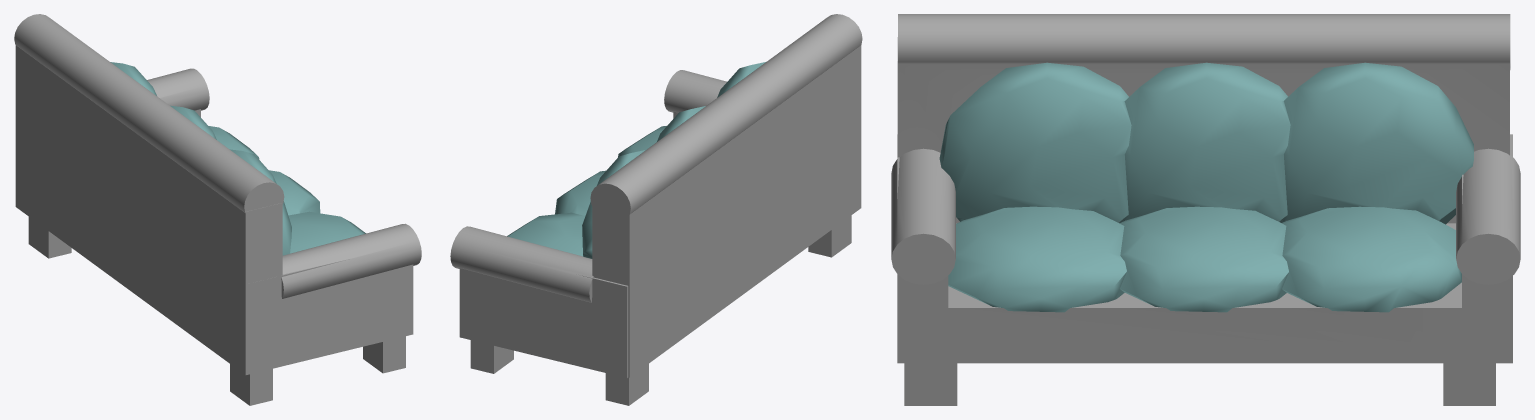
Rendered from Couch.fbx.
The picture shows the model from 3 angles, left to right: view 1: azimuth 30°, elevation 25°; view 2: azimuth 150°, elevation 25°; view 3: azimuth 270°, elevation 25°; orthographic projection. The views are drawn at different scales.
Parts seen in each view (by area): view 1: Couch; view 2: Couch; view 3: Couch.
Part boxes in pixels (x1,y1,x2,y2): Couch: (14, 14, 421, 405); Couch: (450, 14, 862, 405); Couch: (891, 14, 1520, 405).
Bounding box in the file's own units: 96.45 × 113 × 218.
